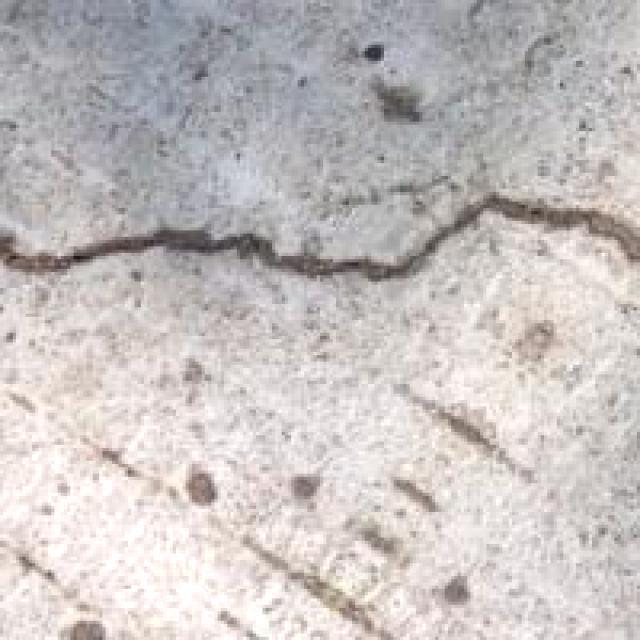crack: (0, 160, 640, 330)
